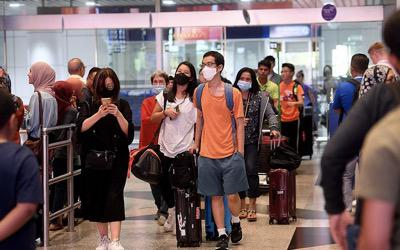with_mask: (200, 60, 218, 82), (175, 68, 191, 87), (98, 82, 115, 99), (236, 75, 252, 92), (151, 79, 166, 95), (324, 67, 332, 77)
without_mask: (257, 66, 269, 79), (281, 68, 291, 81), (27, 66, 33, 85), (200, 70, 207, 83), (166, 80, 174, 91)
